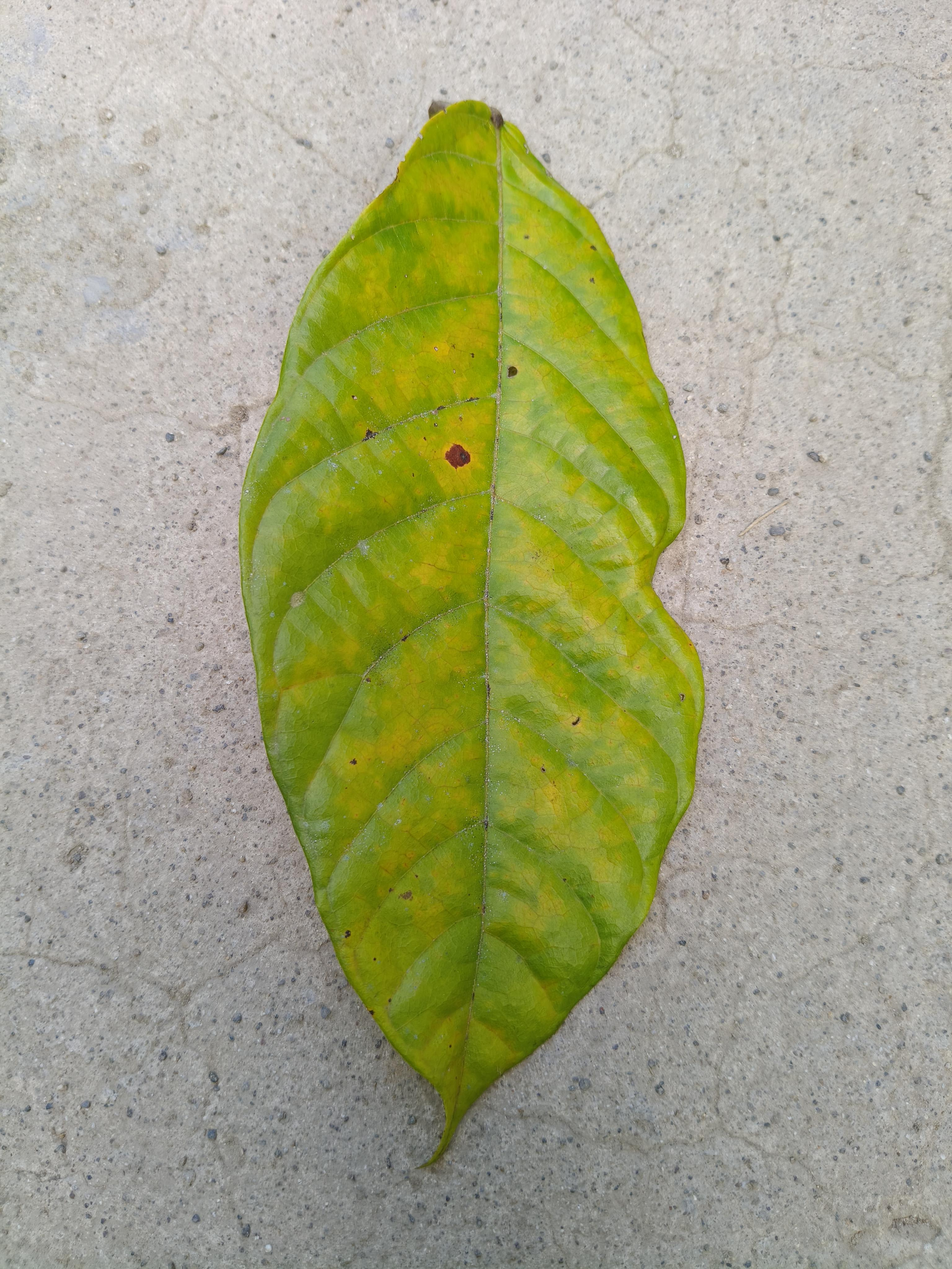deficiencia_potasio: (223, 85, 717, 1174)
